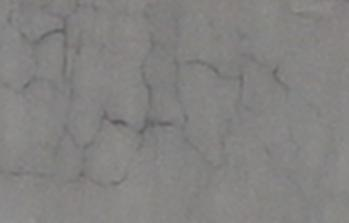fissura: (6, 6, 307, 193)
